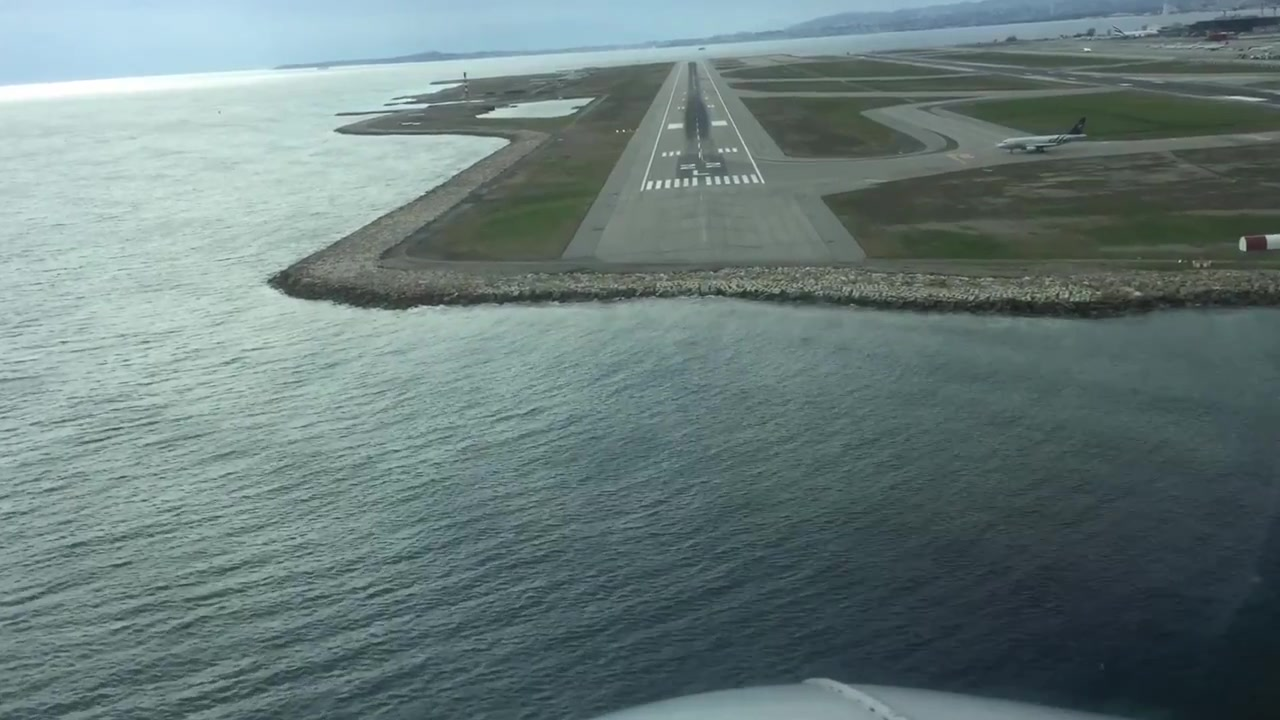entrance: (644, 173, 760, 189)
runway: (560, 61, 863, 265)
